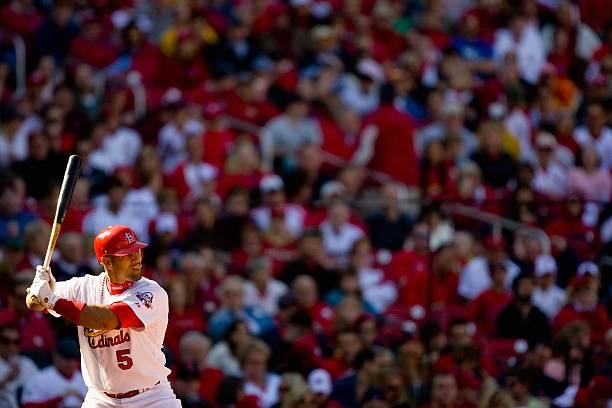bita: (31, 155, 83, 305)
